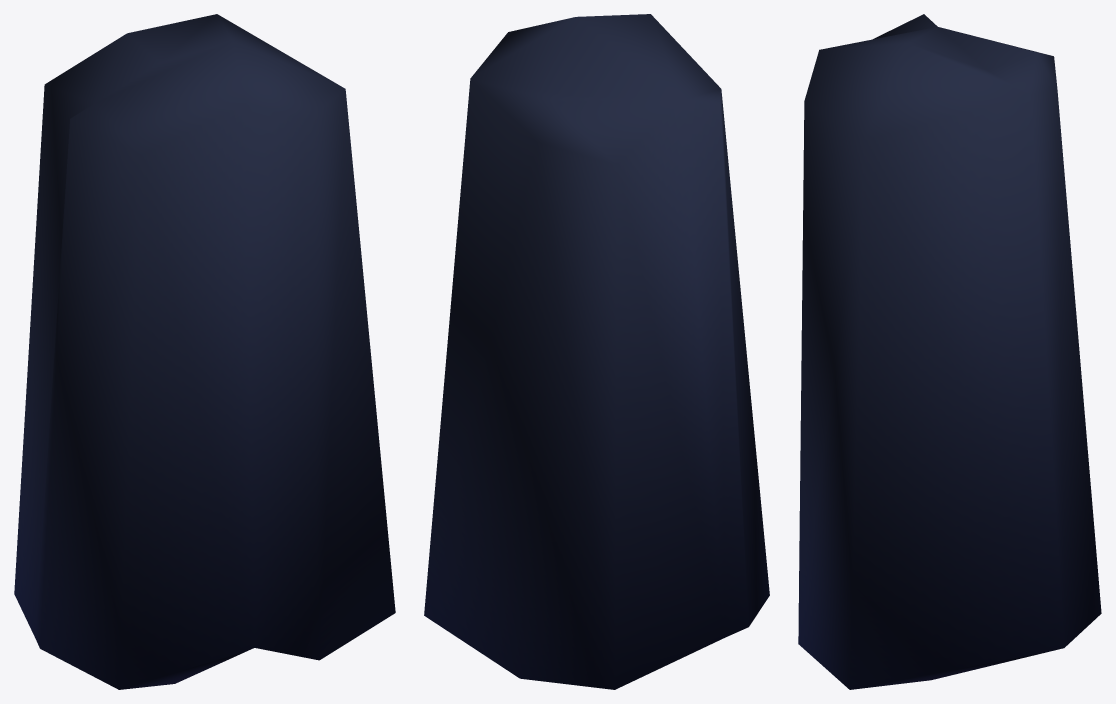
The model's file is WaterRockBroken.gltf.
3 renders of one model, left to right at view 1: azimuth 30°, elevation 25°; view 2: azimuth 150°, elevation 25°; view 3: azimuth 270°, elevation 25°, orthographic.
Parts seen in each view (by area): view 1: WaterRockBrokenMesh; view 2: WaterRockBrokenMesh; view 3: WaterRockBrokenMesh.
Part boxes in pixels (box(x1,y1,x2,y2)): WaterRockBrokenMesh: box(14, 14, 395, 689); WaterRockBrokenMesh: box(424, 14, 769, 689); WaterRockBrokenMesh: box(798, 14, 1101, 689).
Size of the model in its own units: 2.42 by 4.72 by 2.
